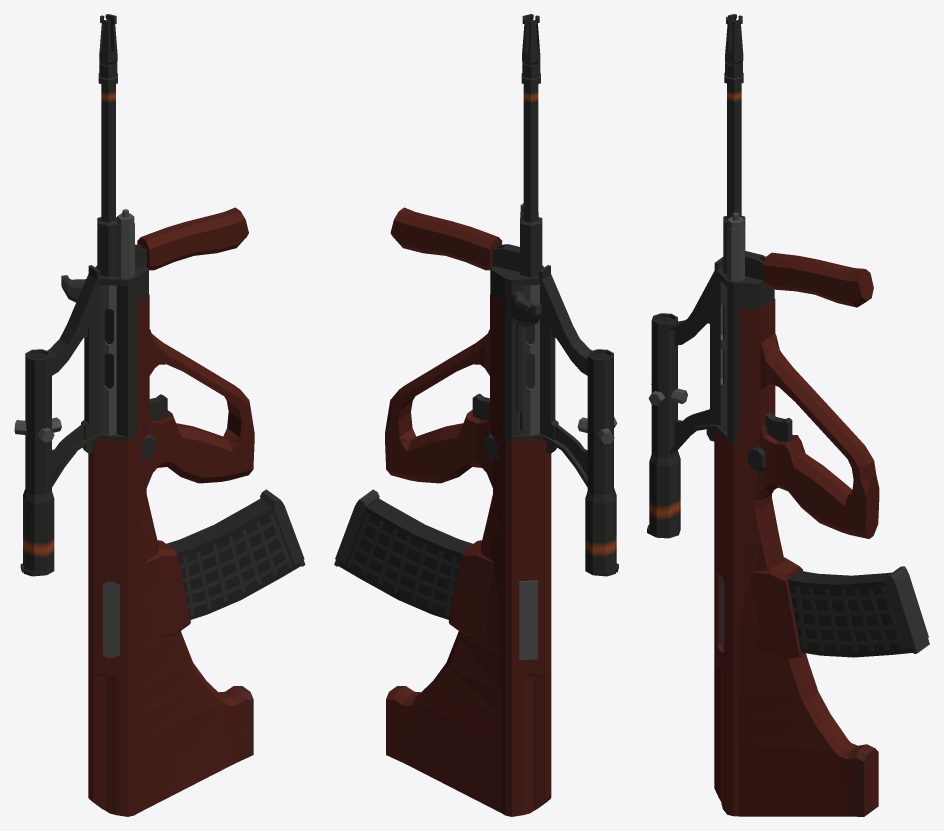
The model's file is EmpireRifle.fbx.
3 views of the same model, side by side, from view 1: azimuth 30°, elevation 25°; view 2: azimuth 150°, elevation 25°; view 3: azimuth 330°, elevation 25° (orthographic).
Parts seen in each view (by area): view 1: Pistol Smol.004; view 2: Pistol Smol.004; view 3: Pistol Smol.004.
Boxes of the visible parts, x1,y1,x2,y2 form: Pistol Smol.004: (14,14,305,816); Pistol Smol.004: (334,14,618,816); Pistol Smol.004: (647,14,929,816).
Bounding box in the file's own units: 0.0426 × 0.5363 × 0.1983.
